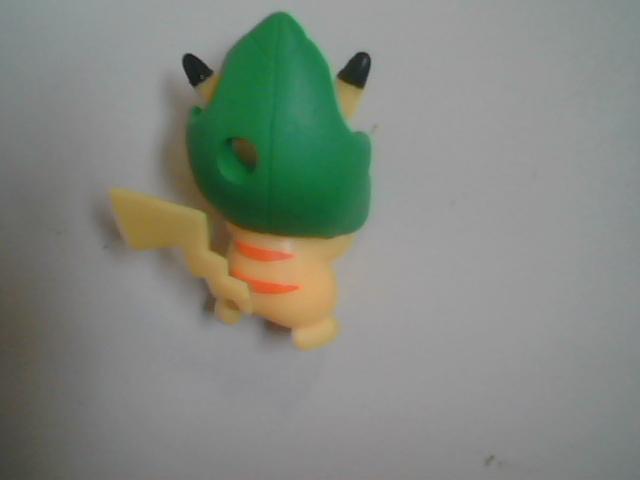pikachu: (88, 15, 461, 383)
